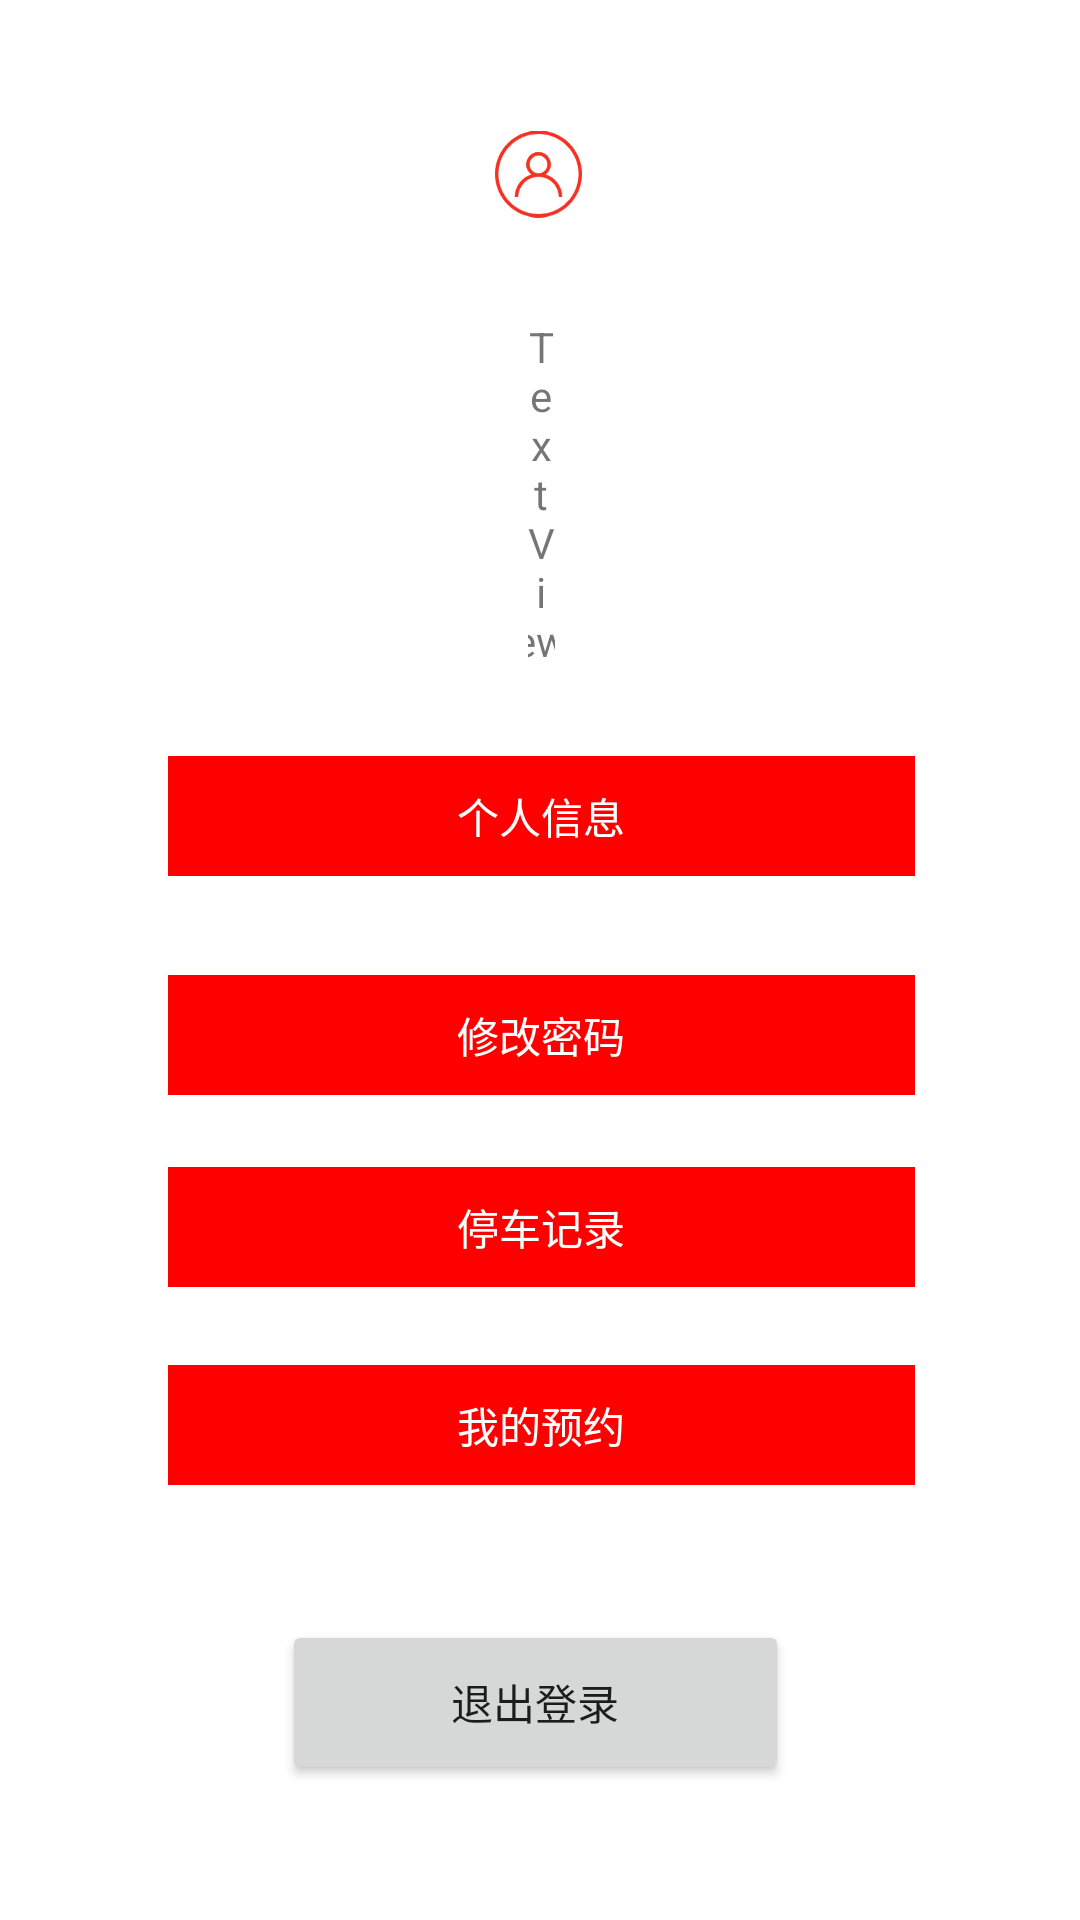

Icon click points for this 1080×1920 phone screenshot, format [x,y]:
conunt: [538,174]
